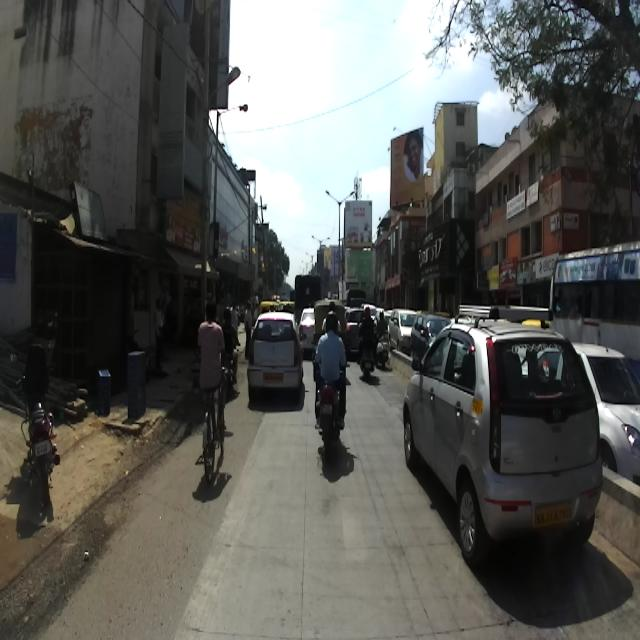bicycle ahead at: (188, 398, 238, 487)
car ahead at: (401, 317, 606, 568), (252, 303, 308, 414)
motorcycle ahead at: (14, 352, 65, 508), (316, 376, 350, 465)
